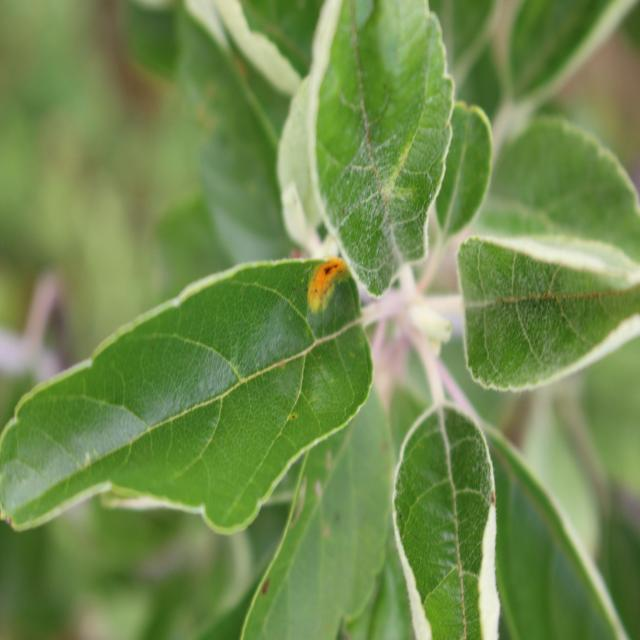Rust: (309, 238, 352, 338)
